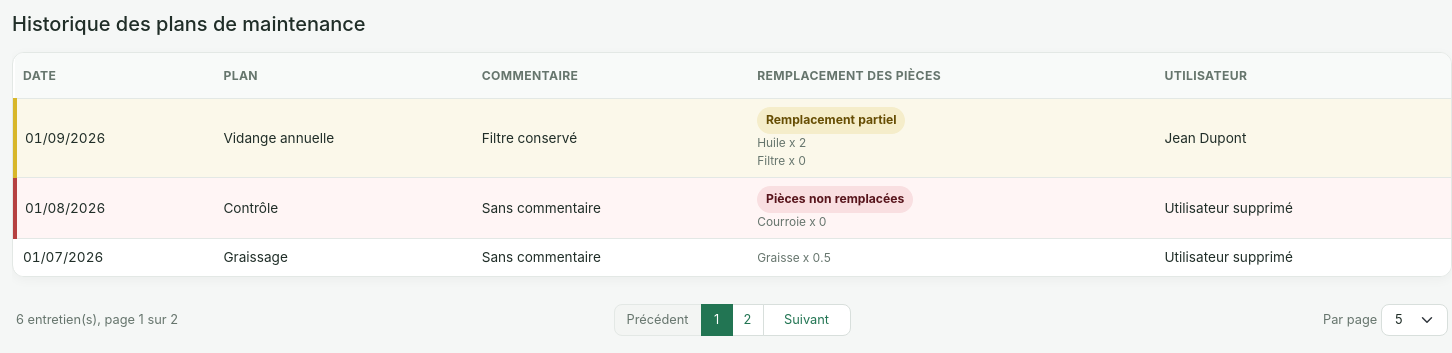
Test: shows the plan history details, shared colors and subsequent pages
Expected: the text "Filtre conservé" is shown, [474,99,749,178]
Expected: the text "Jean Dupont" is shown, [1156,99,1451,178]
Step 1. Click the button "Suivant" → (806, 320), box [762,304,850,336]
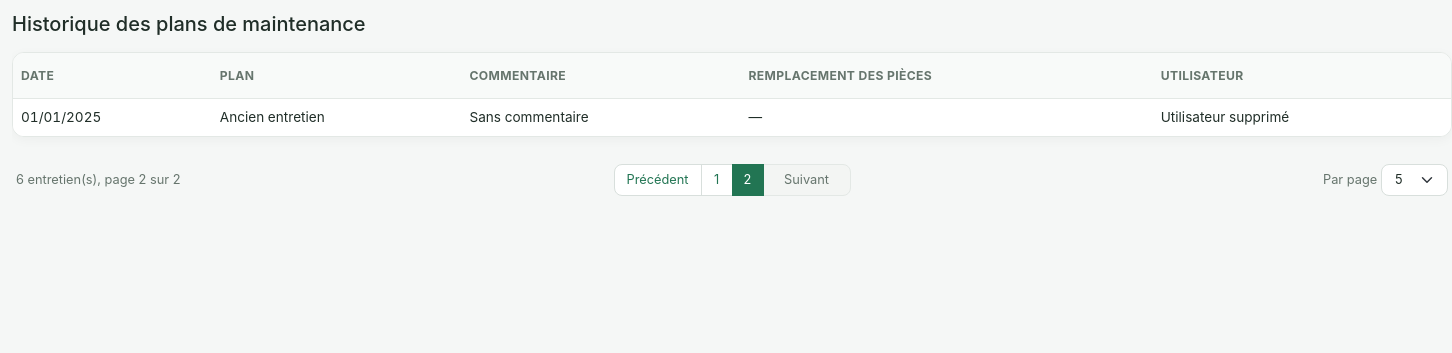
Expected: the text "Ancien entretien" is shown, [212,99,462,136]
Expected: the text "Vidange annuelle" is gone
